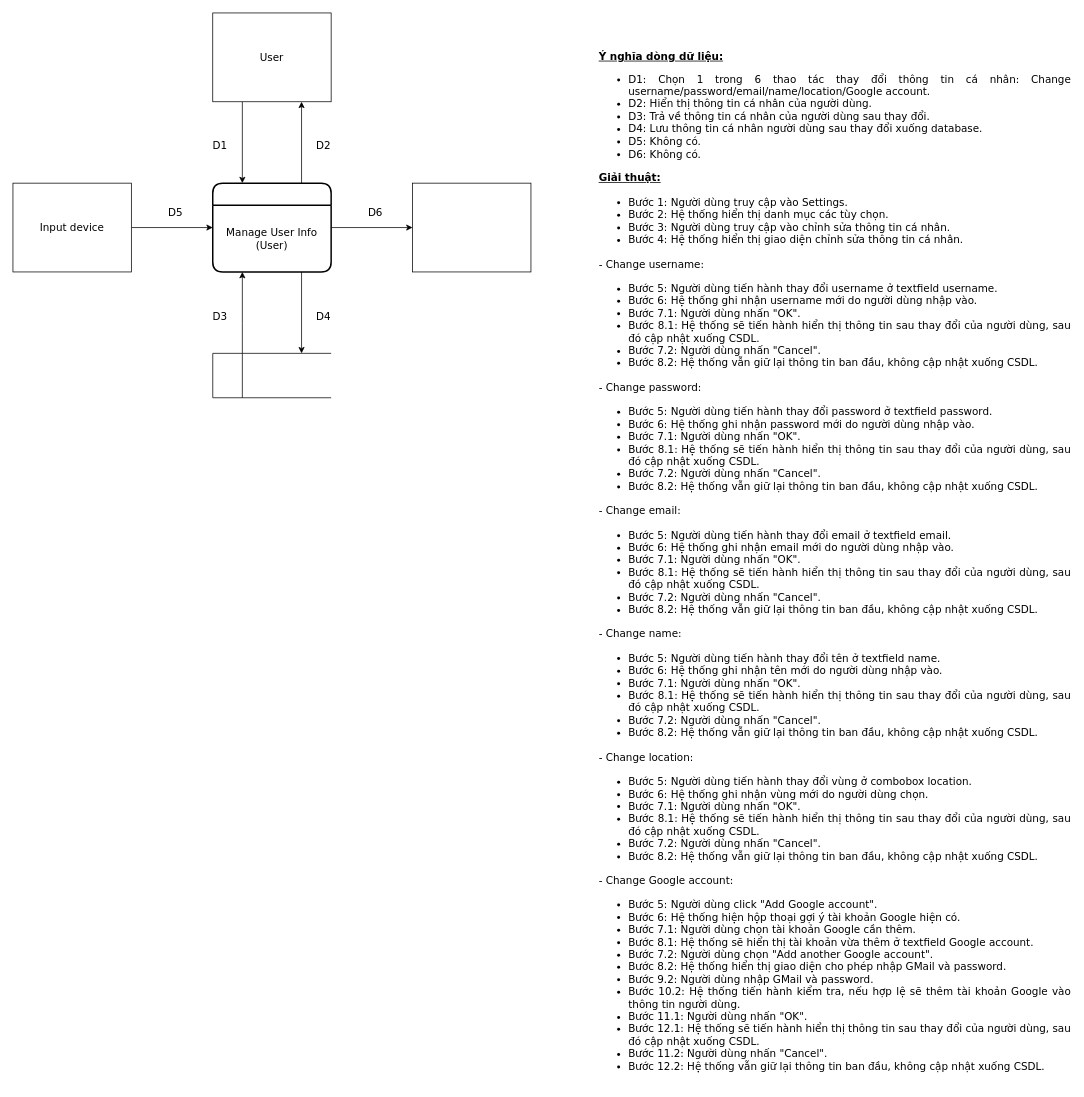
The diagram is 1084 pixels wide and 1097 high, and some of its shapes have lost their labels. Here are the shapes that lost their labels. From the top down, the centre of each, then its label:
pixel 471 227: Output device
pixel 271 375: Storage
